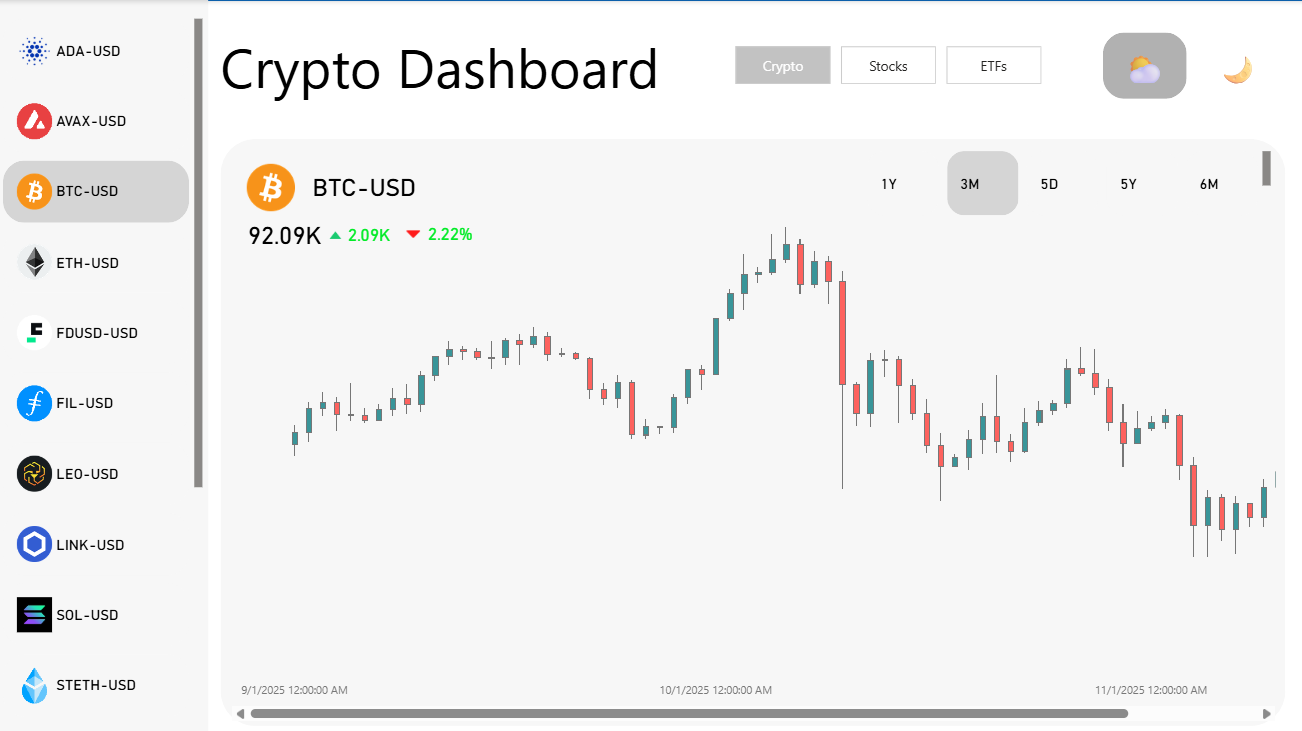

What the dashboard file says about the page in this screenshot:
{"tool":"powerbi","page":{"name":"Crypto","canvas":[1280,720],"ordinal":0},"visuals":[{"type":"shape","box":[0,0,1280.3,720.2],"z":0},{"type":"shape","box":[217.7,135.7,1041.9,574.7],"z":1000},{"type":"shape","box":[0,0,205.8,720.4],"z":2000},{"type":"PBI_CV_886A053E_9DFD_4EA0_A47D_CCAEB89AF969","fields":{"Category":["Stocks Data.Date"],"open":["Sum(Stocks Data.Open)"],"close":["Sum(Stocks Data.Close)"],"high":["Sum(Stocks Data.High)"],"low":["Sum(Stocks Data.Low)"]},"box":[217.7,150.4,1043.1,560.1],"z":3000},{"type":"advancedSlicerVisual","fields":{"Values":["Stocks Data.Symbol"]},"box":[0,13.7,205.8,697.1],"z":4000},{"type":"advancedSlicerVisual","fields":{"Values":["Stocks Data.Date Category"]},"box":[845,143.1,406,73.4],"z":5000},{"type":"advancedSlicerVisual","fields":{"Values":["Color Codes.Label"]},"box":[1075.8,27.4,183.9,75.5],"z":6000},{"type":"cardVisual","fields":{"Data":["Min(Stocks Data.Logo)"]},"box":[223.1,142.2,93.3,87.8],"z":7000},{"type":"card","fields":{"Values":["Min(Stocks Data.Symbol)"]},"box":[283.5,143.6,149.6,79.6],"z":8000},{"type":"card","fields":{"Values":["Stocks Data.Open_value"]},"box":[236,200.5,89.3,58.7],"z":9000},{"type":"card","fields":{"Values":["Stocks Data.Open_Close_diff"]},"box":[324.1,215.2,78.3,30.6],"z":10000},{"type":"card","fields":{"Values":["Stocks Data.Diff_%"]},"box":[403.5,214,78.3,30.6],"z":11000},{"type":"shape","box":[217.7,2.4,600.4,123.5],"z":12000},{"type":"pageNavigator","box":[721.5,45.2,300.8,37.9],"z":13000},{"type":"cardVisual","fields":{"Data":["Min(Stocks Data.Logo)"]},"box":[303.8,202.3,58.7,44],"z":14000},{"type":"cardVisual","fields":{"Data":["Min(Stocks Data.Logo)"]},"box":[378.3,202.3,61.1,44],"z":15000}]}

Visuals, with their boxes in screenshot pixels (x1, y1, x2, y2), scaled from the page's 1280x720 canvas onto the 1302x731 screenshot:
shape: bbox=[0, 0, 1301, 730]
shape: bbox=[221, 138, 1281, 721]
shape: bbox=[0, 0, 209, 730]
PBI_CV_886A053E_9DFD_4EA0_A47D_CCAEB89AF969 - Stocks Data.Date x Sum(Stocks Data.Open): bbox=[221, 153, 1282, 721]
advancedSlicerVisual - Stocks Data.Symbol: bbox=[0, 14, 209, 722]
advancedSlicerVisual - Stocks Data.Date Category: bbox=[860, 145, 1273, 220]
advancedSlicerVisual - Color Codes.Label: bbox=[1094, 28, 1281, 104]
cardVisual - Min(Stocks Data.Logo): bbox=[227, 144, 322, 234]
card - Min(Stocks Data.Symbol): bbox=[288, 146, 441, 227]
card - Stocks Data.Open_value: bbox=[240, 204, 331, 263]
card - Stocks Data.Open_Close_diff: bbox=[330, 218, 409, 250]
card - Stocks Data.Diff_%: bbox=[410, 217, 490, 248]
shape: bbox=[221, 2, 832, 128]
pageNavigator: bbox=[734, 46, 1040, 84]
cardVisual - Min(Stocks Data.Logo): bbox=[309, 205, 369, 250]
cardVisual - Min(Stocks Data.Logo): bbox=[385, 205, 447, 250]
